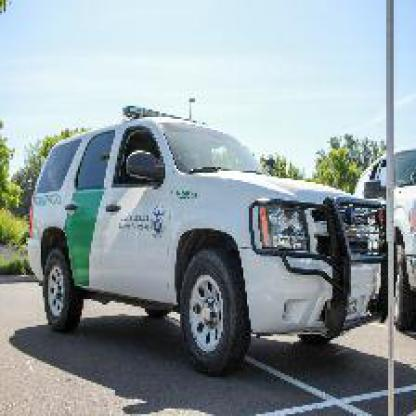emergency: (21, 97, 401, 364)
